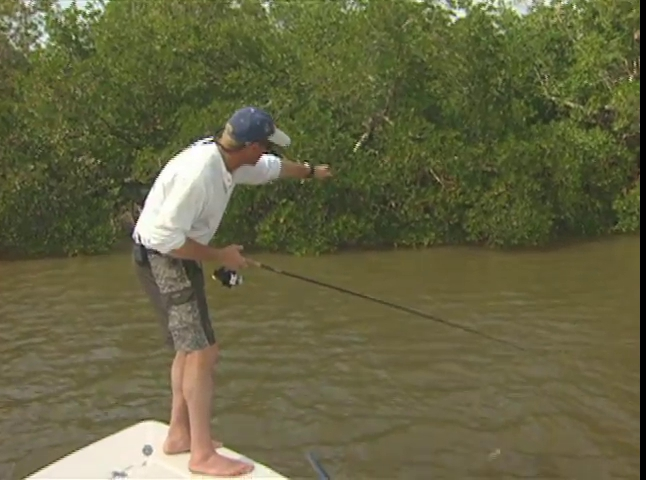person: (132, 107, 335, 477)
